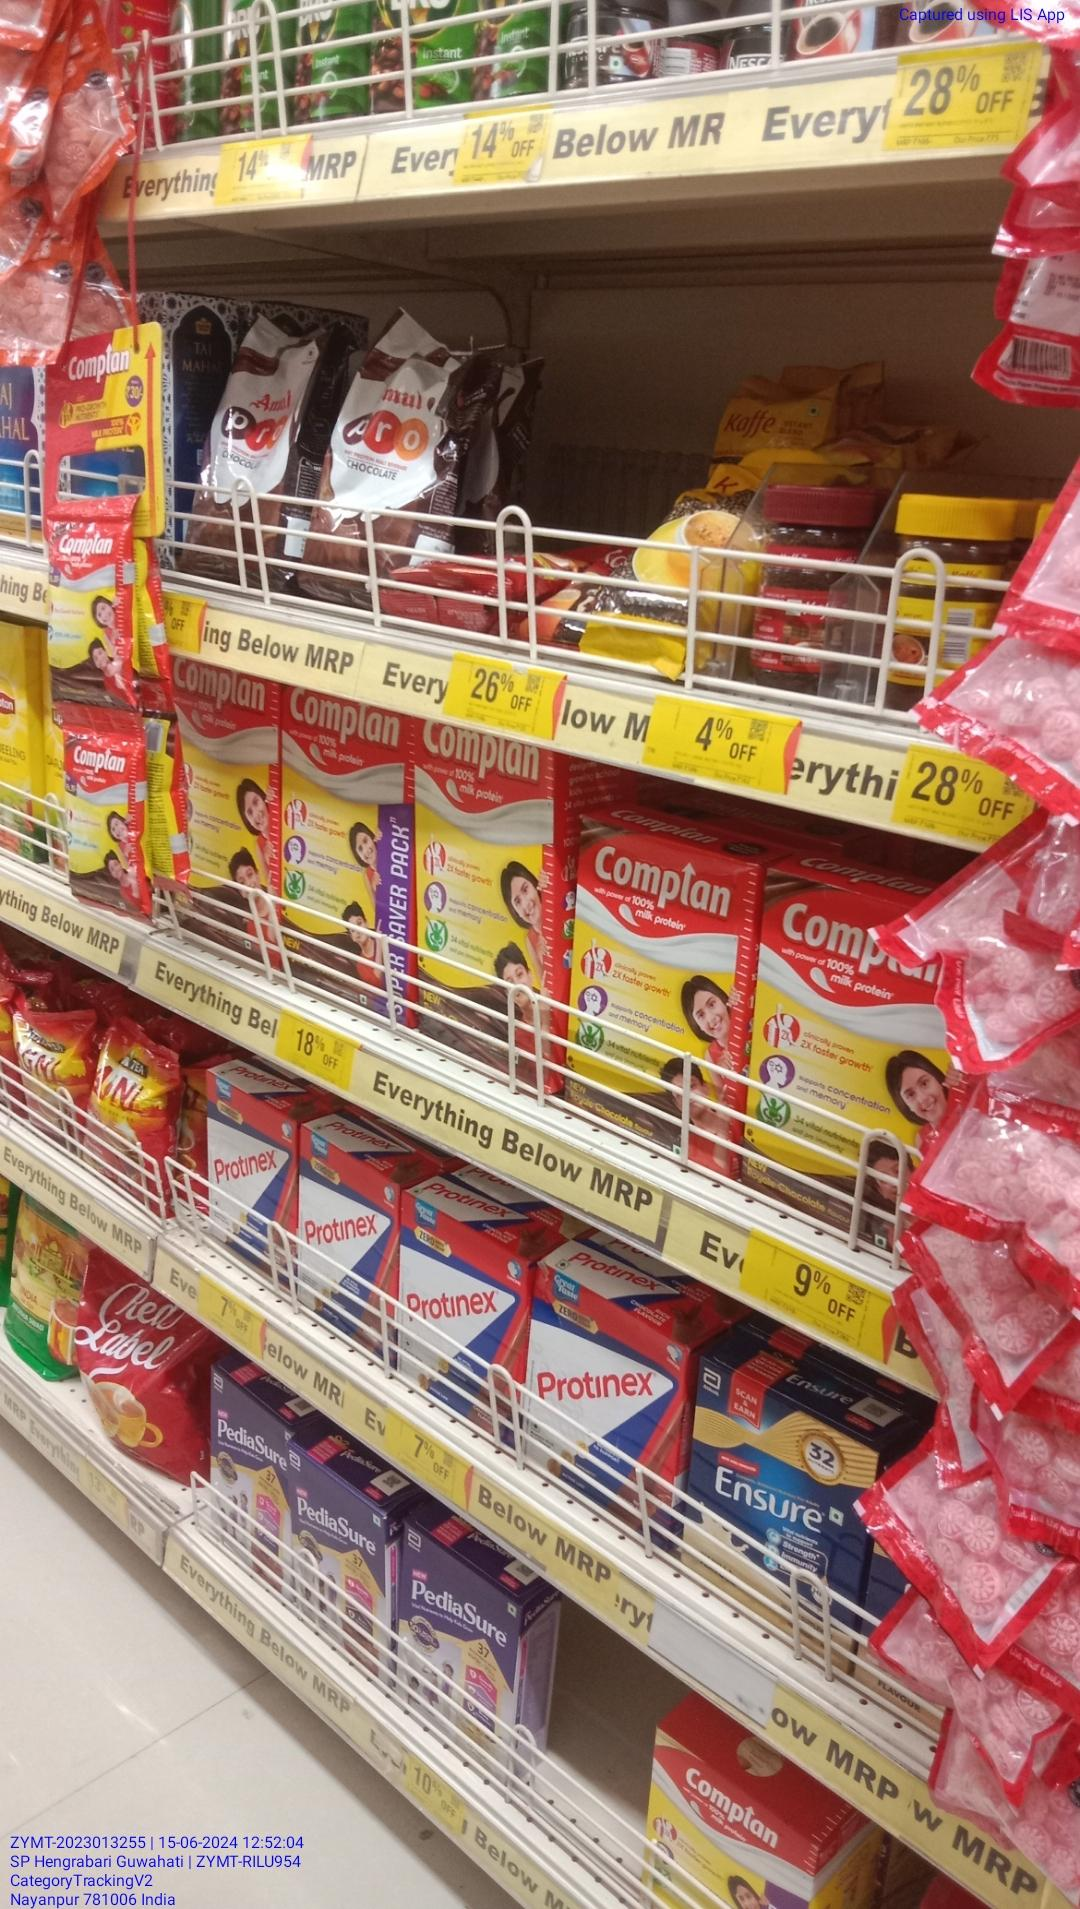COMPLAN_CHOCOLATE_1_KG_PACK: (414, 720, 558, 1045), (279, 692, 406, 1015)
COMPLAN_CHOCOLATE_500_GMS_PACK: (573, 846, 744, 1163), (754, 889, 919, 1197)
